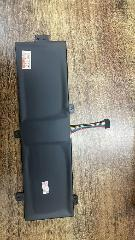electronic: (3, 21, 121, 235)
